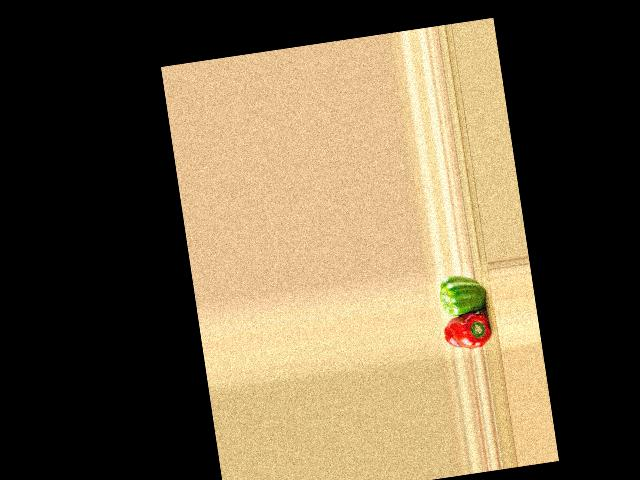bell_pepper: (441, 308, 493, 353)
